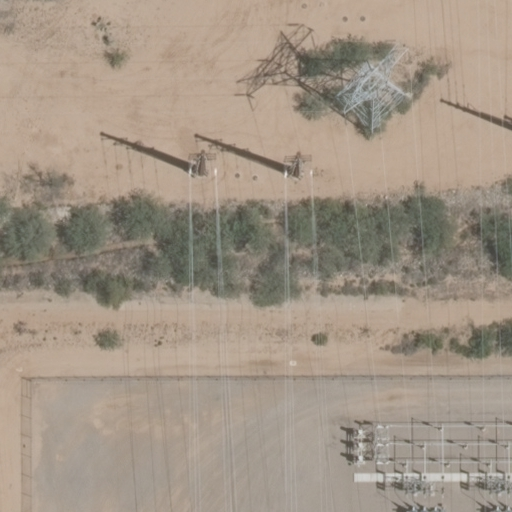DT: (283, 148, 315, 180), (188, 146, 218, 177)
TT: (342, 50, 415, 136)
